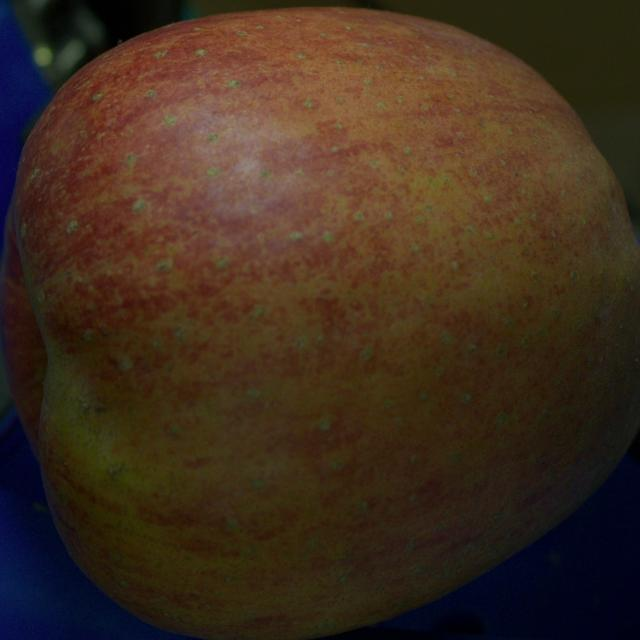apple: (0, 8, 639, 639)
